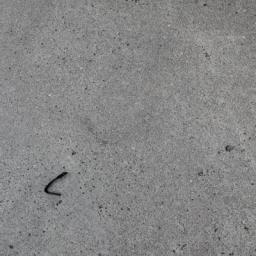FOD: (44, 171, 73, 201)
